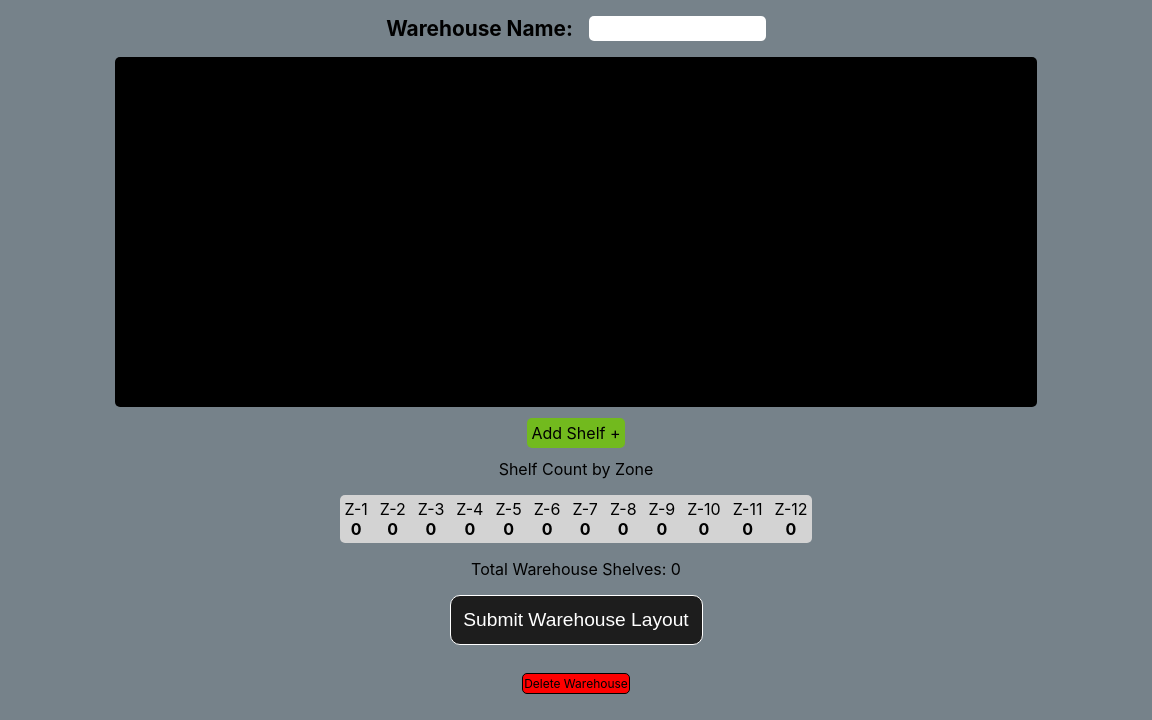
Test: WarehouseForm › it adds a shelf to the form when "Add Shelf +" is clicked
The width and height of the screenshot is (1152, 720).
Click the text "Add Shelf +": x=576, y=433 [527,418,625,448]
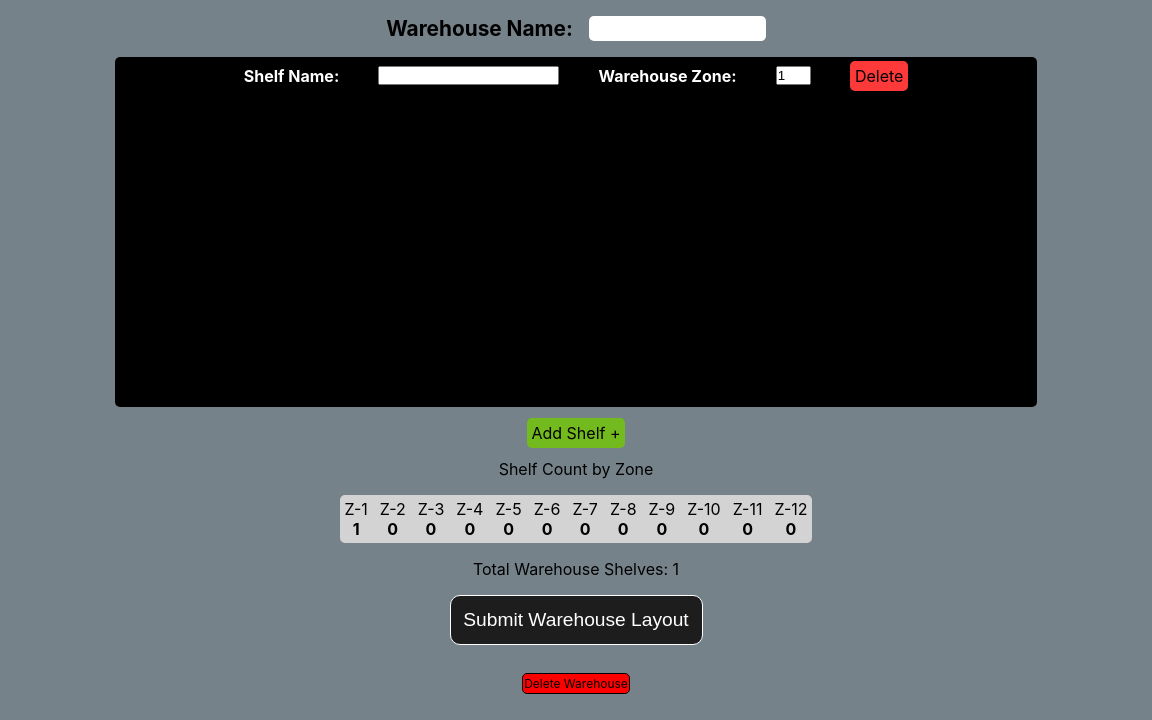
Check: the number of fields labelled "Shelf Name:" is 1, box [378,66,559,85]
Check: the number of number fields labelled "Warehouse Zone:" is 1, box [776,66,811,85]
